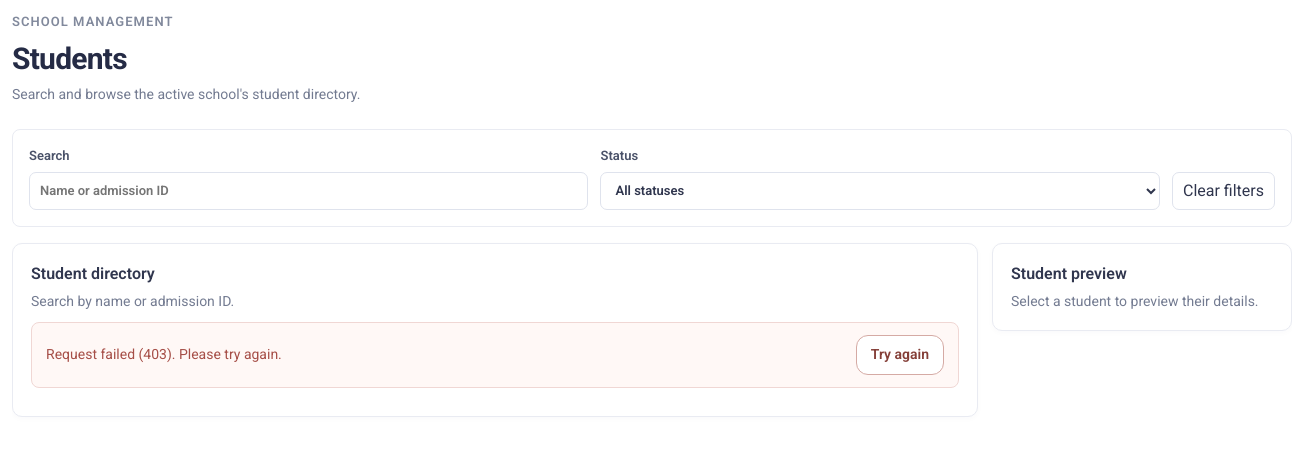
Test: API student directory › shows errors and retries without falling back to preview data
This screenshot has width=1292, height=465.
Check: the message "Request failed (403). Please try again. Try again" is shown, box top-left (31, 322), bottom-right (959, 388)
Step 1. Click the button "Try again" → (900, 354), box top-left (856, 334), bottom-right (944, 374)
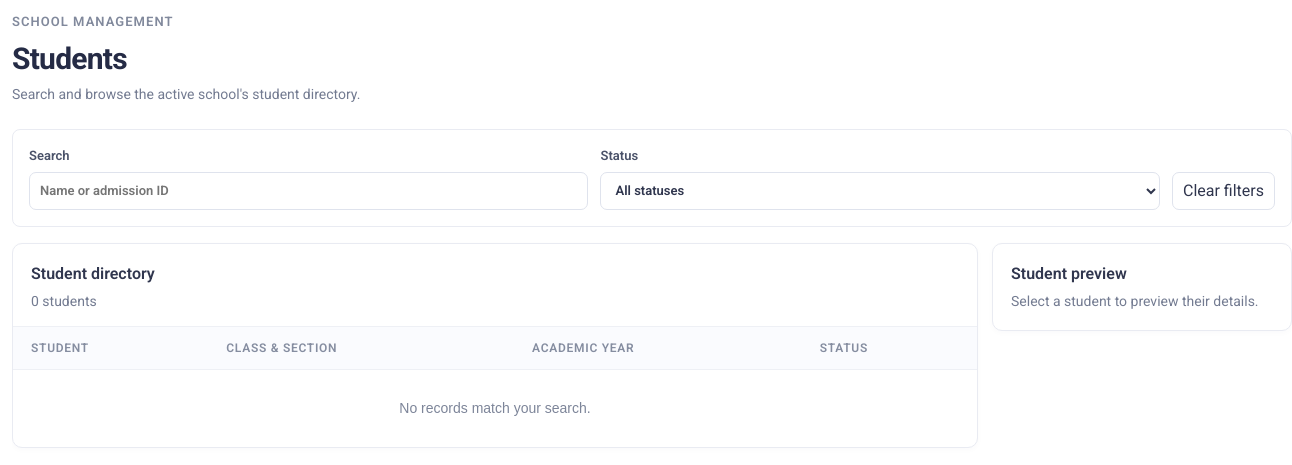
Check: the text "No records match your search." is shown, box top-left (13, 369), bottom-right (977, 446)
